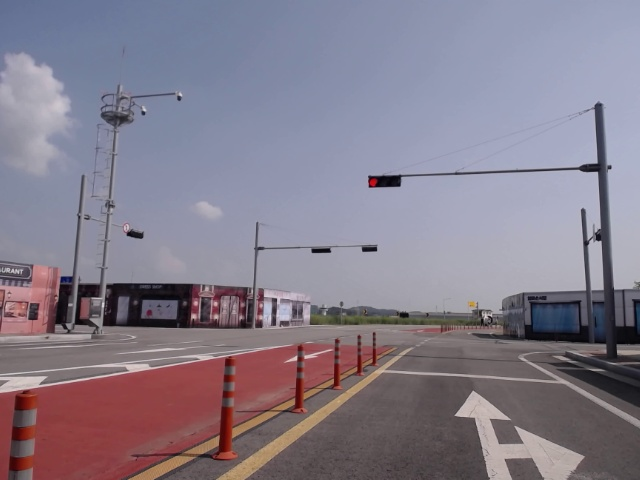red_3: (367, 176, 403, 188)
